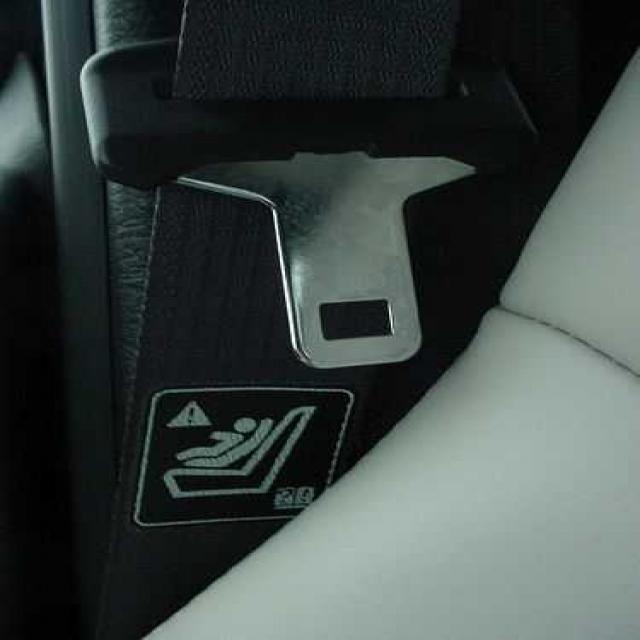seatbelt: (72, 5, 506, 608)
